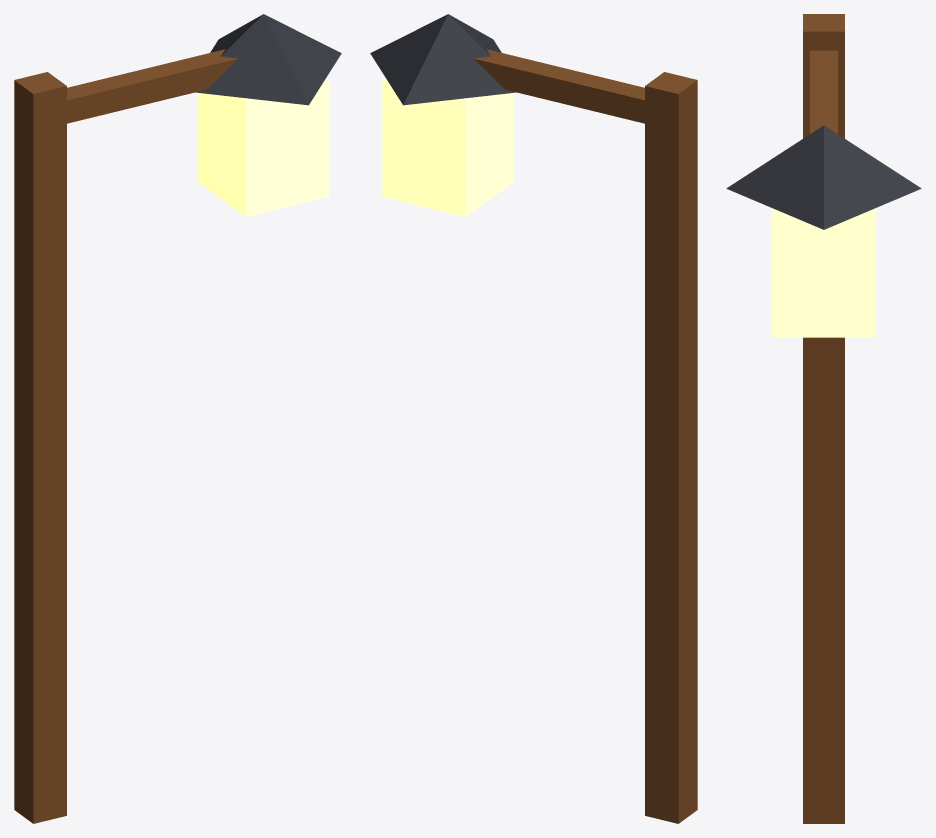
Rendered from sky_dock_lantern.fbx.
3 renders of one model, left to right at view 1: azimuth 30°, elevation 25°; view 2: azimuth 150°, elevation 25°; view 3: azimuth 270°, elevation 25°, orthographic. The views are drawn at different scales.
Parts seen in each view (by area): view 1: sky_dock_lantern; view 2: sky_dock_lantern; view 3: sky_dock_lantern.
Part boxes in pixels (box(x1,y1,x2,y2)): sky_dock_lantern: box(14, 14, 341, 823); sky_dock_lantern: box(370, 14, 697, 823); sky_dock_lantern: box(726, 14, 921, 823).
Size of the model in its own units: 1.14 by 2.55 by 0.56.
